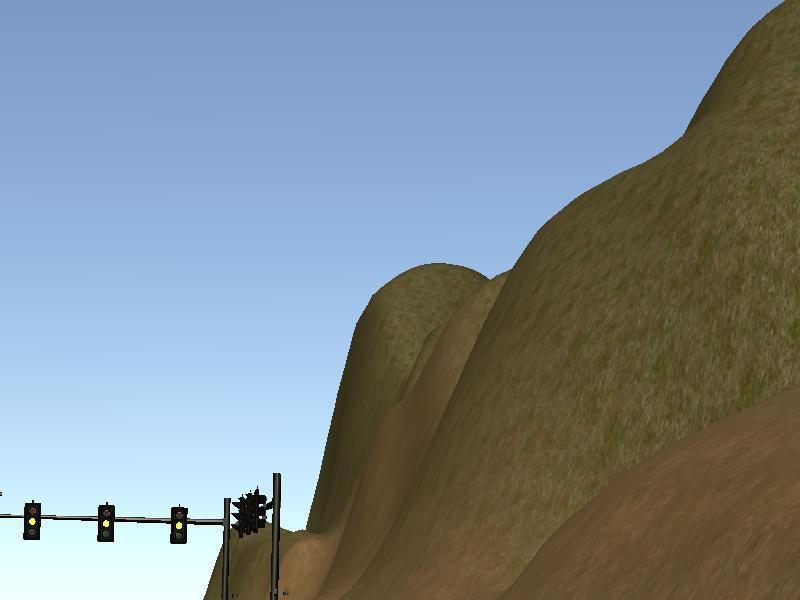Yellow: (23, 502, 41, 541), (169, 506, 187, 545), (96, 504, 114, 543)
